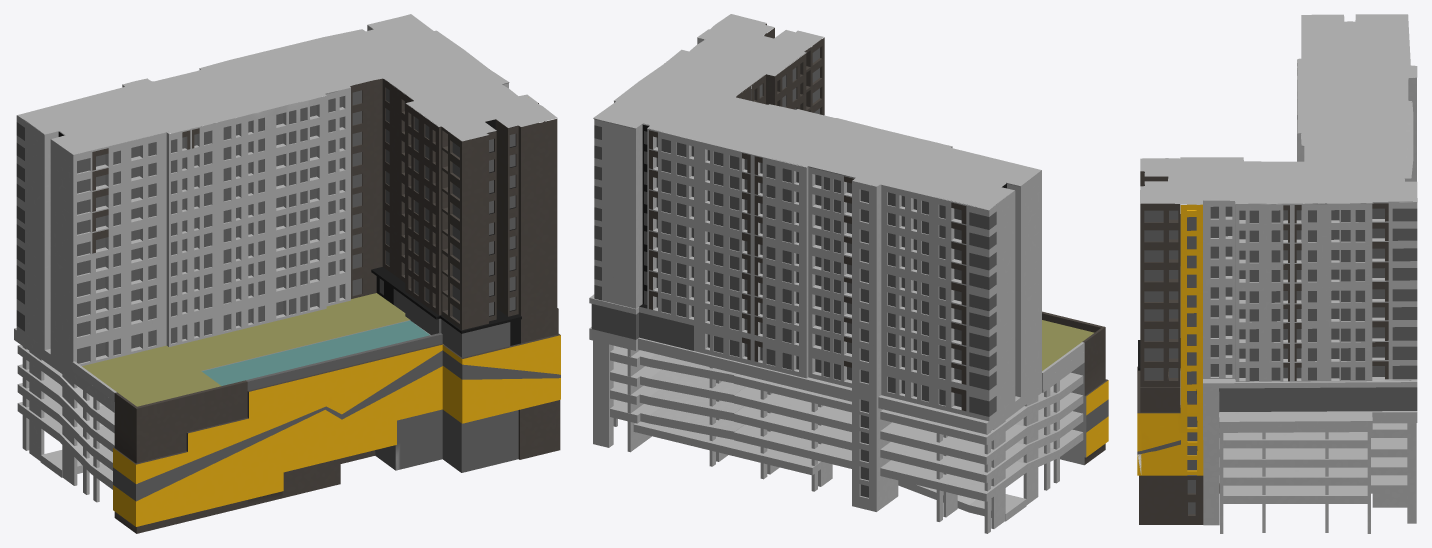
File: final_cut10.glb
3 renders of one model, left to right at view 1: azimuth 30°, elevation 25°; view 2: azimuth 150°, elevation 25°; view 3: azimuth 270°, elevation 25°, orthographic. The views are drawn at different scales.
Visible parts, largest first — view 1: cut:pPlane3 (×8); view 2: cut:pPlane3 (×7); view 3: cut:pPlane3 (×6).
Part boxes in pixels (x1,y1,x2,y2): cut:pPlane3 (×8): [14, 14, 560, 533]; cut:pPlane3 (×7): [589, 14, 1108, 533]; cut:pPlane3 (×6): [1137, 14, 1417, 533].
Bounding box in the file's own units: 4.69 × 3.52 × 2.77.
11 materials, 11 textured.
